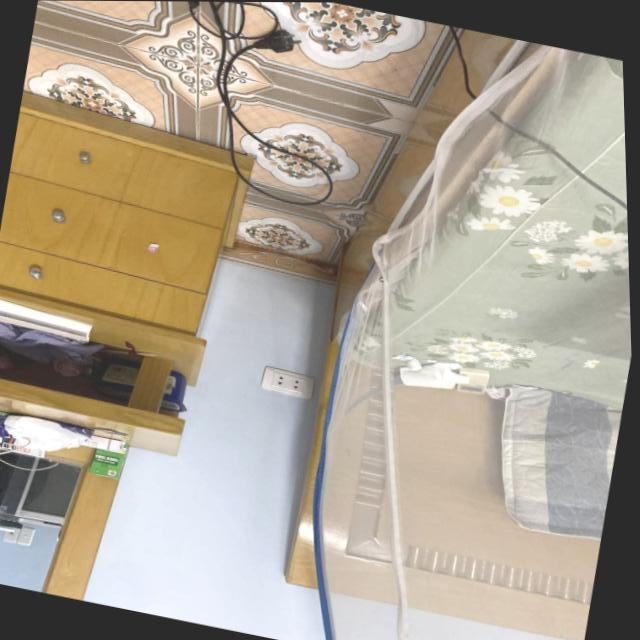outlet: (259, 366, 316, 400)
